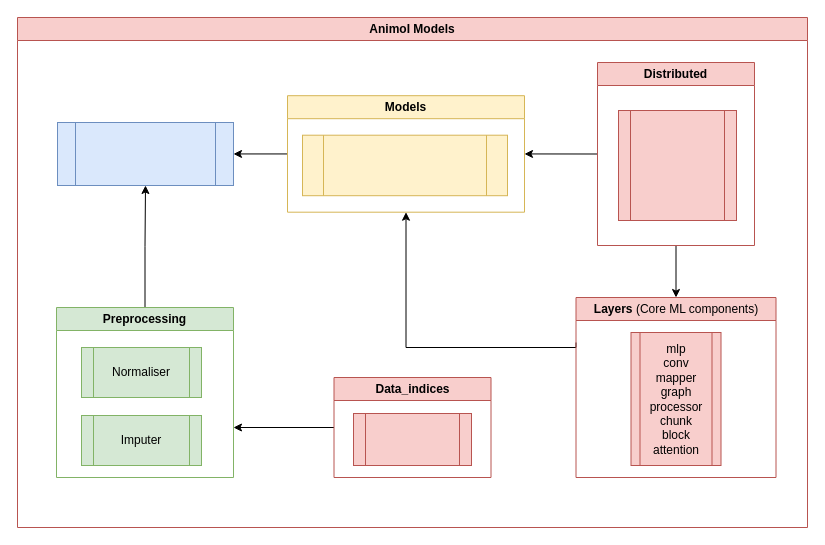
Some shapes in this 825 by 545 pixel diagram are drawn without their labels. The centre of each missing label's shape, as x and y in pixels:
AnemoiModelInterface: point (145, 154)
collection index tensor: point (412, 439)
encoder_processor_decoder: point (405, 165)
graph primitives shapes transformer khop_edges: point (677, 165)
